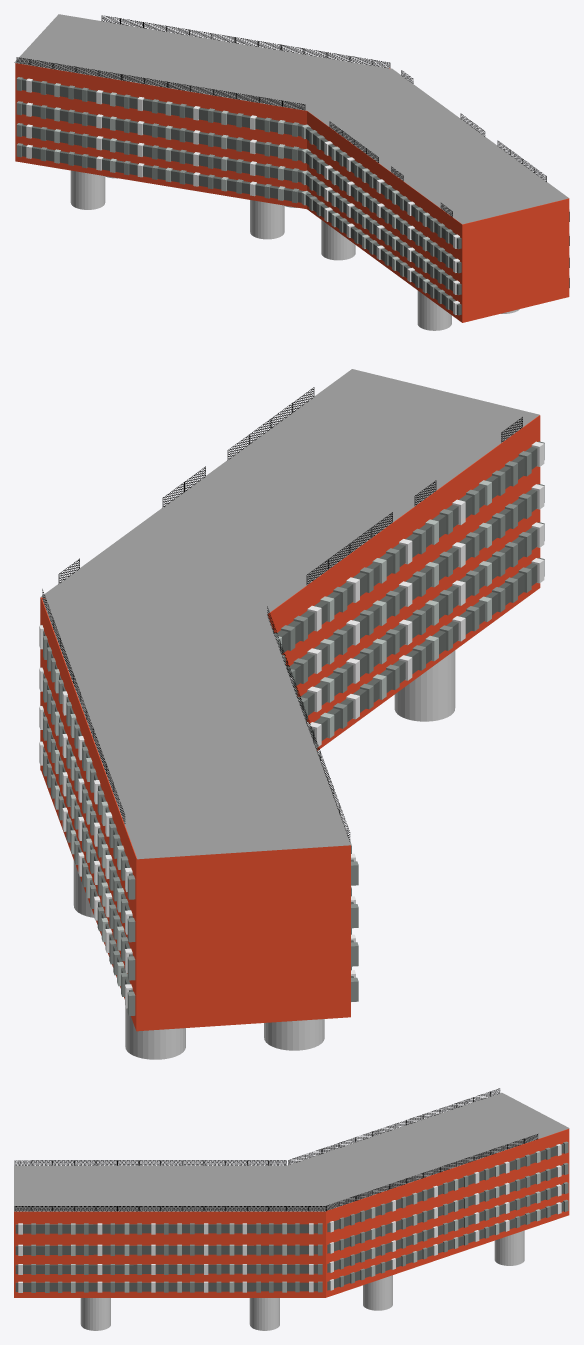
Rendered from block_BC.glb.
The picture shows the model from 3 angles, top to bottom: view 1: azimuth 30°, elevation 25°; view 2: azimuth 150°, elevation 25°; view 3: azimuth 270°, elevation 25°; orthographic projection. The views are drawn at different scales.
Parts seen in each view (by area): view 1: Cube.029, Cube.017, Cube.030, Cube.001, Cube.141, Cube.166, Cube.192, Cube.402, Cube.049, Cube.033, Cube.100, Cube.075 (+4 smaller); view 2: Cube.029, Cube.030, Cube.001, Cube.017, Cube.049, Cube.033, Cube.075, Cube.100, Cylinder.007, Cylinder.011, Cylinder.016; view 3: Cube.017, Cube.029, Cube.030, Cube.001, Cube.049, Cube.075, Cube.033, Cube.100, Cube.192, Cube.402, Cube.166, Cube.141 (+4 smaller).
Boxes of the visible parts, x1,y1,x2,y2 form: Cube.029: [285, 68, 568, 224]; Cube.017: [307, 111, 569, 322]; Cube.030: [14, 14, 389, 110]; Cube.001: [15, 63, 389, 209]; Cube.141: [22, 145, 301, 202]; Cube.166: [22, 124, 303, 182]; Cube.192: [22, 78, 301, 136]; Cube.402: [22, 103, 301, 160]; Cube.049: [300, 124, 569, 249]; Cube.033: [300, 148, 569, 273]; Cube.100: [300, 190, 569, 315]; Cube.075: [305, 174, 569, 295]; Cube.029: [40, 369, 539, 642]; Cube.030: [42, 598, 351, 859]; Cube.001: [41, 598, 350, 1031]; Cube.017: [40, 415, 540, 770]; Cube.049: [277, 441, 544, 653]; Cube.033: [289, 484, 544, 685]; Cube.075: [300, 522, 544, 715]; Cube.100: [309, 557, 544, 742]; Cylinder.007: [394, 650, 455, 721]; Cylinder.011: [125, 1006, 185, 1059]; Cylinder.016: [264, 1019, 324, 1050]; Cube.017: [14, 1211, 325, 1297]; Cube.029: [14, 1165, 325, 1211]; Cube.030: [287, 1092, 569, 1210]; Cube.001: [326, 1129, 569, 1297]; Cube.049: [15, 1224, 317, 1233]; Cube.075: [15, 1264, 317, 1273]; Cube.033: [15, 1245, 317, 1254]; Cube.100: [15, 1282, 317, 1291]; Cube.192: [327, 1143, 564, 1232]; Cube.402: [327, 1165, 564, 1253]; Cube.166: [327, 1184, 564, 1272]; Cube.141: [327, 1202, 564, 1290].
Bounding box in the file's own units: 0.4706 × 0.23 × 0.9174.
